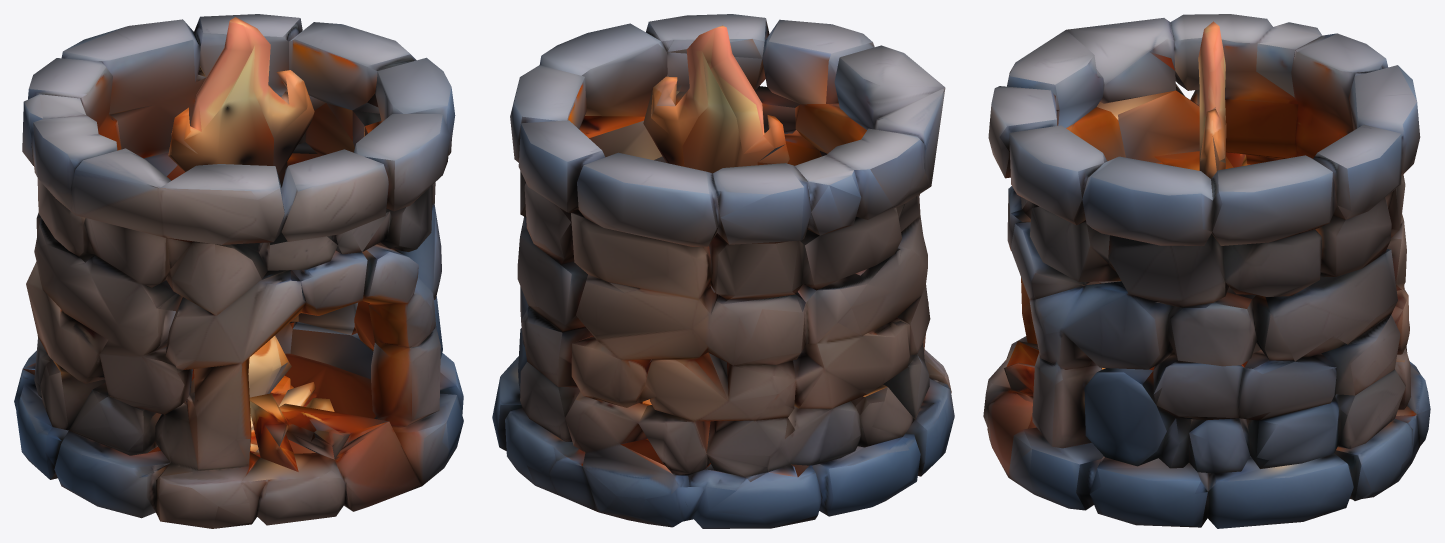
3 views of the same model, side by side, from view 1: azimuth 30°, elevation 25°; view 2: azimuth 150°, elevation 25°; view 3: azimuth 270°, elevation 25° (orthographic).
Visible parts, largest first — view 1: texture_pbr_v128; view 2: texture_pbr_v128; view 3: texture_pbr_v128.
Boxes of the visible parts, box(x1,y1,x2,y2) form: texture_pbr_v128: box(14, 14, 463, 528); texture_pbr_v128: box(492, 14, 954, 528); texture_pbr_v128: box(983, 14, 1430, 528).
Size of the model in its own units: 85 by 85.9 by 84.36.
Materials: 1 (1 with a texture image).
